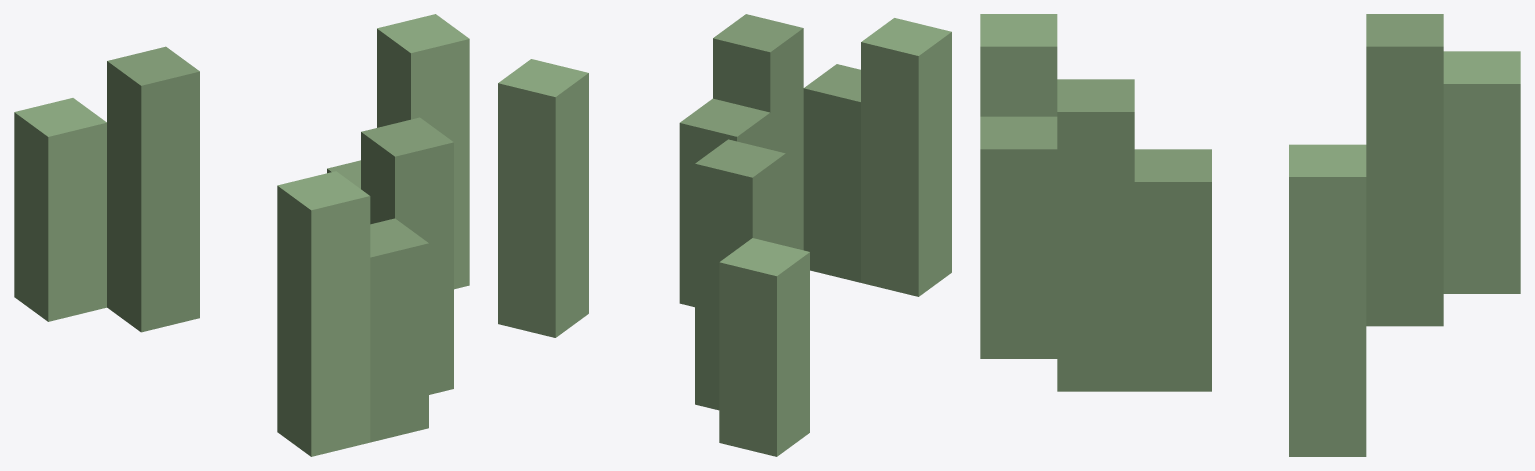
Rendered from pepino_silvestre_02.glb.
3 renders of one model, left to right at view 1: azimuth 30°, elevation 25°; view 2: azimuth 150°, elevation 25°; view 3: azimuth 270°, elevation 25°, orthographic. The views are drawn at different scales.
Parts seen in each view (by area): view 1: pepino_silvestre_02; view 2: pepino_silvestre_02; view 3: pepino_silvestre_02.
Boxes of the visible parts, box(x1,y1,x2,y2) form: pepino_silvestre_02: box(14, 14, 469, 456); pepino_silvestre_02: box(498, 14, 951, 456); pepino_silvestre_02: box(980, 14, 1520, 456).
Size of the model in its own units: 0.6 by 0.4 by 0.7.
